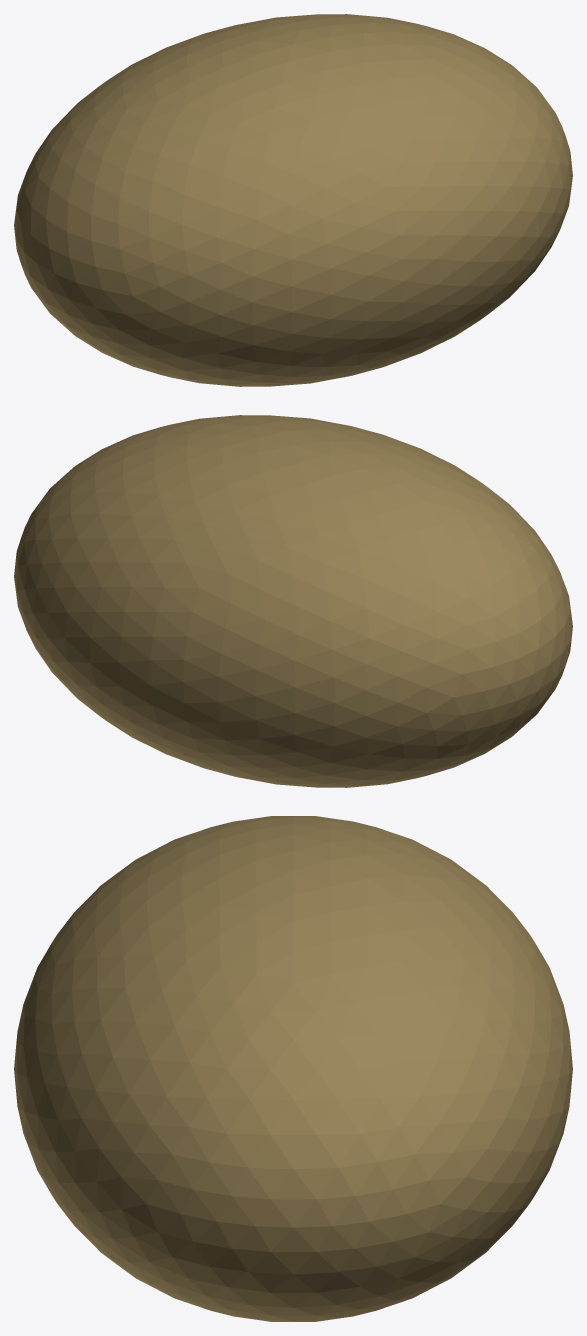
File: muzzle.obj
3 renders of one model, top to bottom at view 1: azimuth 30°, elevation 25°; view 2: azimuth 150°, elevation 25°; view 3: azimuth 270°, elevation 25°, orthographic. The views are drawn at different scales.
Bounding box in the file's own units: 0.086 × 0.05 × 0.064.
